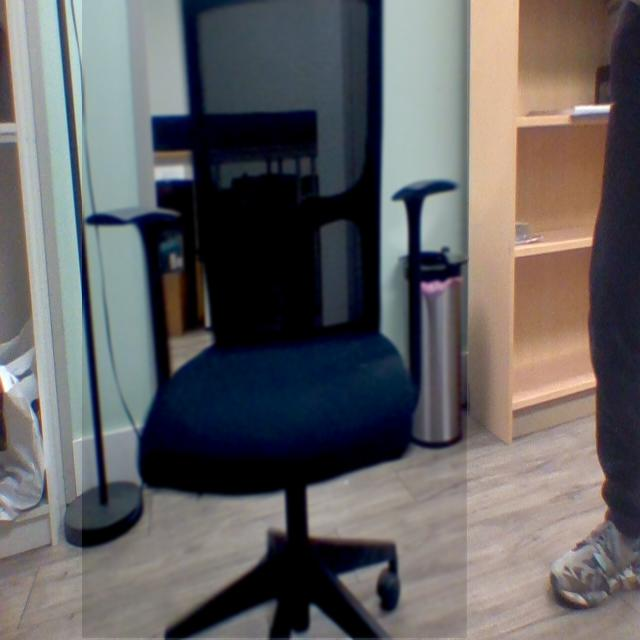black-chair: (82, 0, 468, 639)
